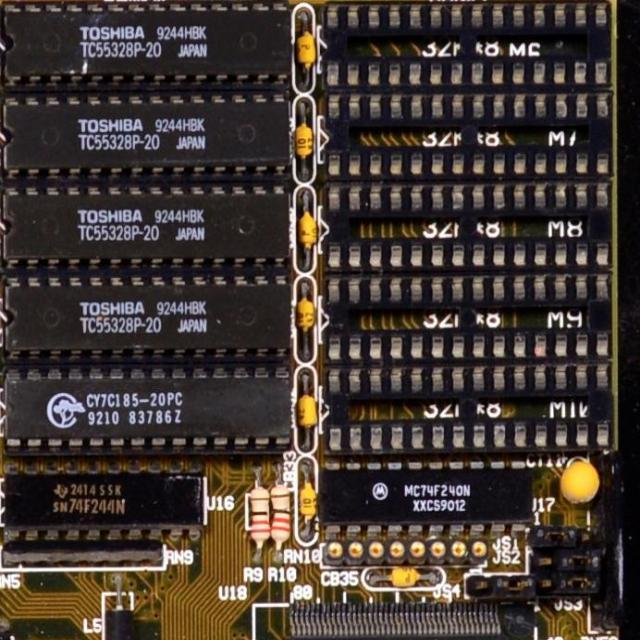IC: (0, 186, 301, 268), (0, 4, 297, 87), (0, 278, 284, 363), (0, 99, 293, 169), (5, 387, 294, 446), (314, 466, 538, 536), (2, 468, 208, 541), (247, 601, 538, 640), (0, 633, 16, 640)
capacitor: (290, 104, 318, 171), (296, 202, 318, 256), (293, 291, 317, 340), (296, 26, 317, 80), (296, 386, 318, 435), (0, 374, 2, 438)
connector: (325, 181, 613, 219), (324, 1, 610, 38), (328, 330, 618, 366), (324, 54, 614, 89), (328, 90, 608, 126), (326, 276, 612, 311), (328, 238, 622, 272), (328, 426, 618, 455), (324, 148, 614, 176), (328, 370, 614, 397)
resistor: (242, 478, 278, 565), (273, 478, 298, 562)
